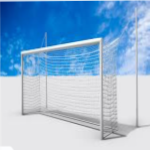goals: (19, 36, 126, 140)
